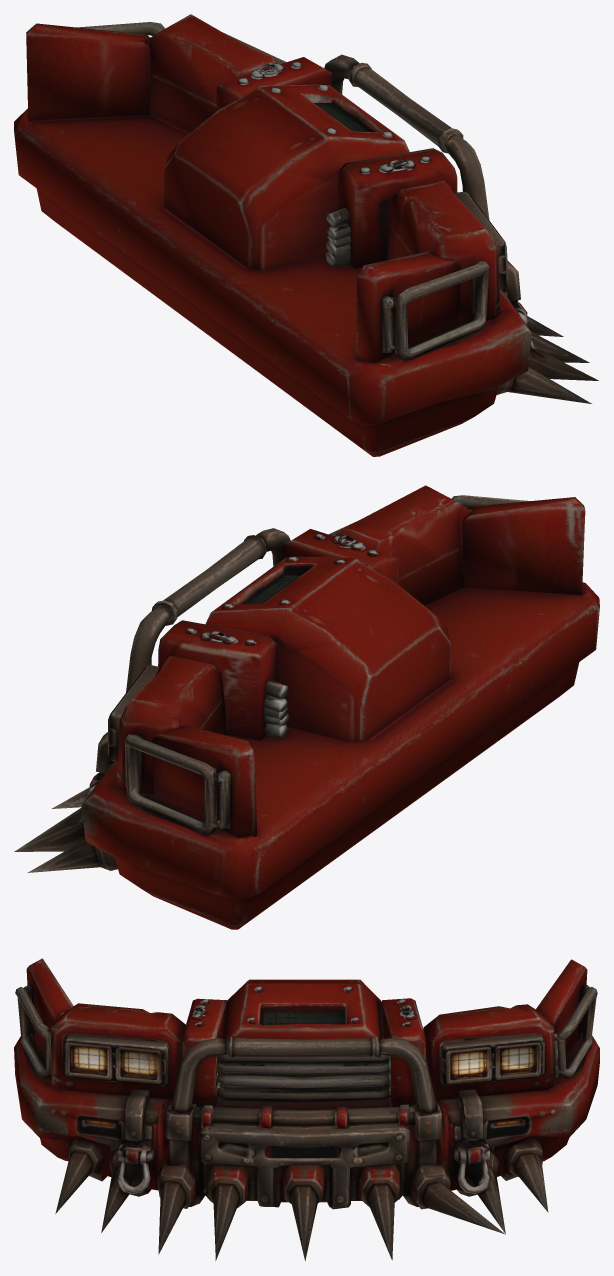
Rendered from spiked_armored_bumper_01.glb.
3 renders of one model, top to bottom at view 1: azimuth 30°, elevation 25°; view 2: azimuth 150°, elevation 25°; view 3: azimuth 270°, elevation 25°, orthographic. The views are drawn at different scales.
Parts seen in each view (by area): view 1: tripo_node_4cec278c-5ce3-4a48-a759-64dd29c727b1; view 2: tripo_node_4cec278c-5ce3-4a48-a759-64dd29c727b1; view 3: tripo_node_4cec278c-5ce3-4a48-a759-64dd29c727b1.
Boxes of the visible parts, x1,y1,x2,y2 form: tripo_node_4cec278c-5ce3-4a48-a759-64dd29c727b1: (14, 14, 598, 456); tripo_node_4cec278c-5ce3-4a48-a759-64dd29c727b1: (14, 485, 599, 929); tripo_node_4cec278c-5ce3-4a48-a759-64dd29c727b1: (14, 958, 599, 1260).
Bounding box in the file's own units: 0.5215 × 0.3613 × 0.998.
1 material, 1 textured.
